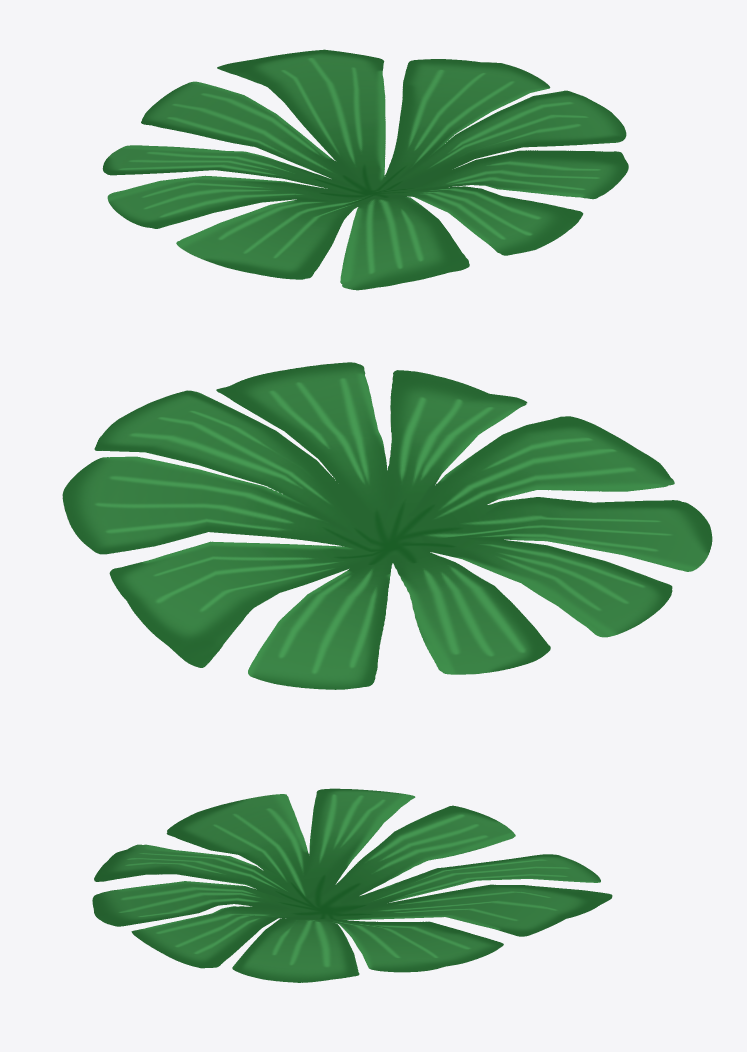
File: HojaCircular.fbx
The picture shows the model from 3 angles, top to bottom: view 1: azimuth 30°, elevation 25°; view 2: azimuth 150°, elevation 25°; view 3: azimuth 270°, elevation 25°; orthographic projection. The views are drawn at different scales.
Visible parts, largest first — view 1: HojaCircular; view 2: HojaCircular; view 3: HojaCircular.
Part boxes in pixels (left/top/right/bottom): HojaCircular: left=102, top=49, right=628, bottom=290; HojaCircular: left=62, top=362, right=712, bottom=689; HojaCircular: left=92, top=788, right=612, bottom=982.
Size of the model in its own units: 342 by 25.04 by 348.
1 material, 1 textured.
